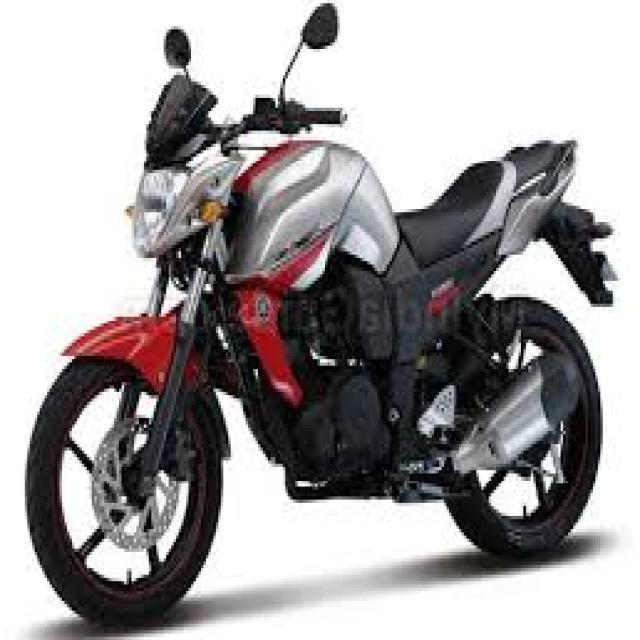bike: (25, 2, 619, 626)
